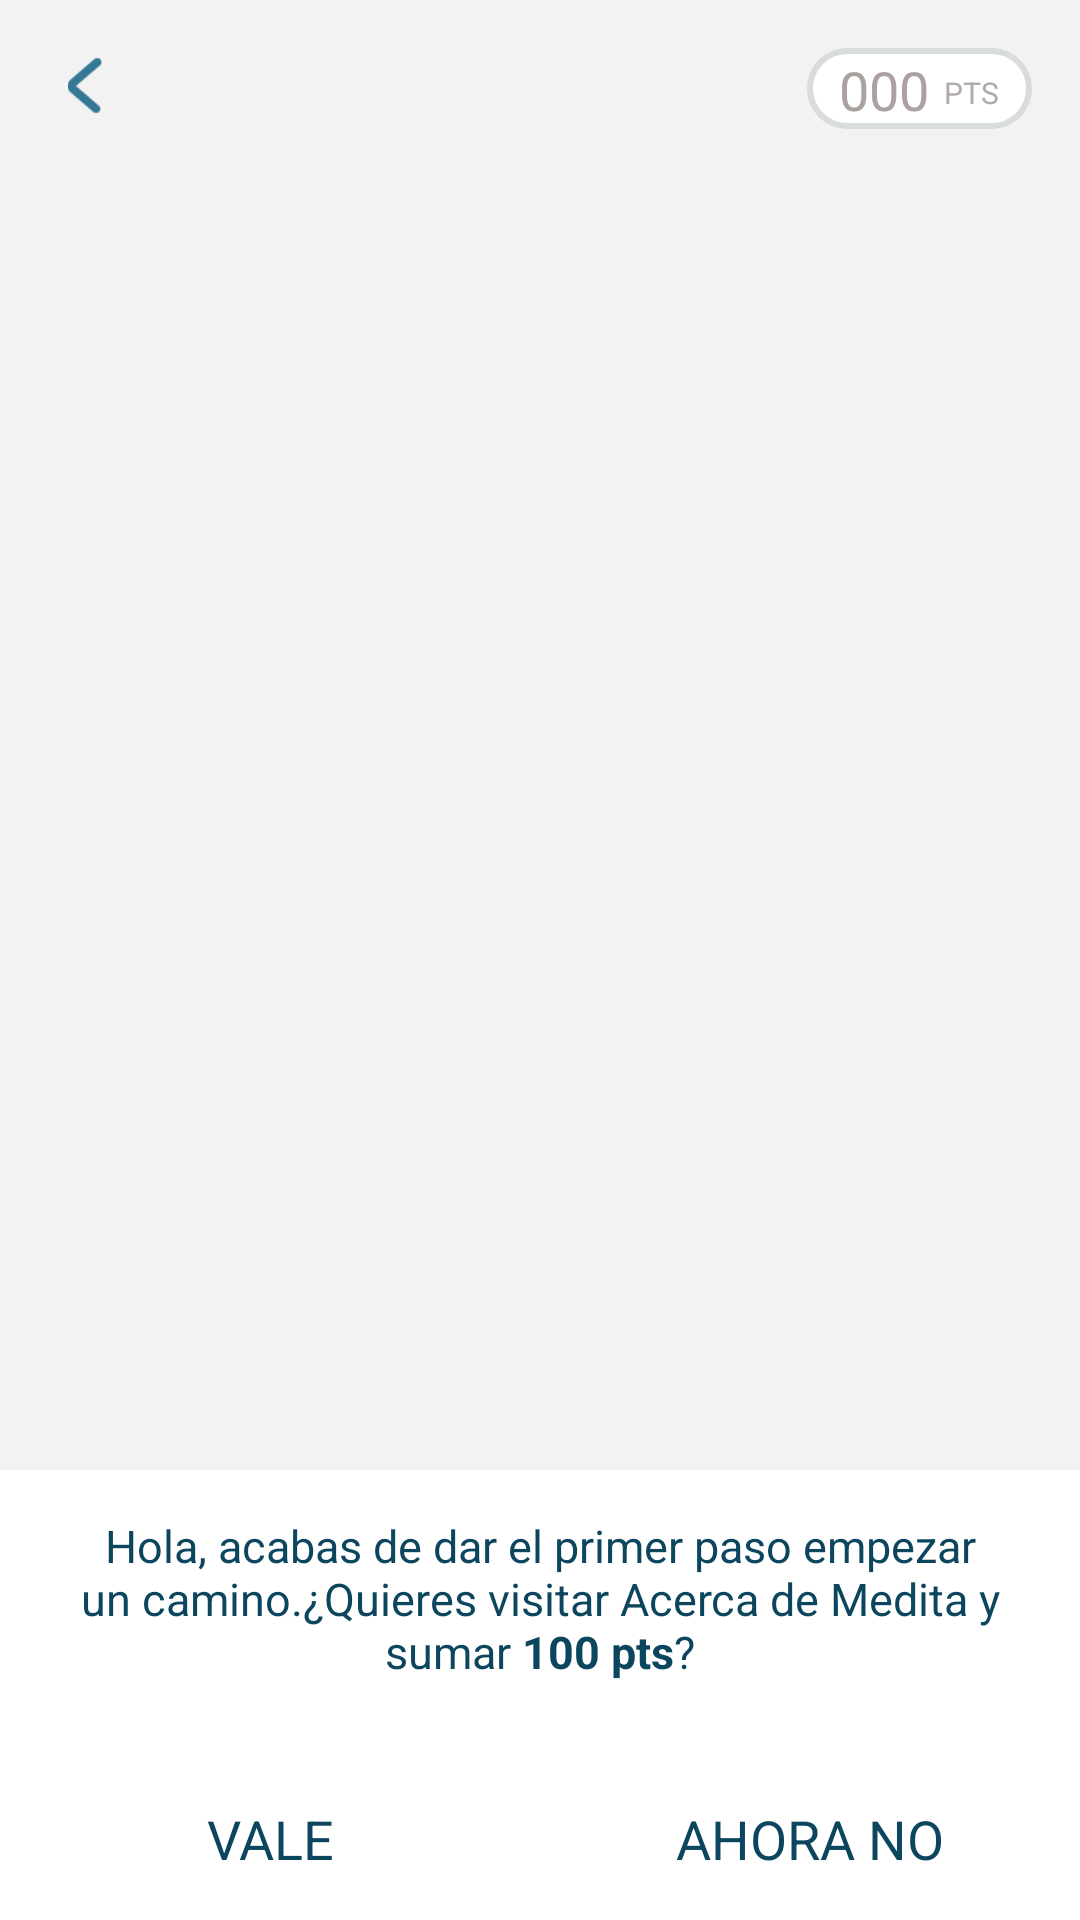

Named icons in this screenshot (1080×1920) and their centers, (x=x, y=y):
atras: (x=85, y=85)
